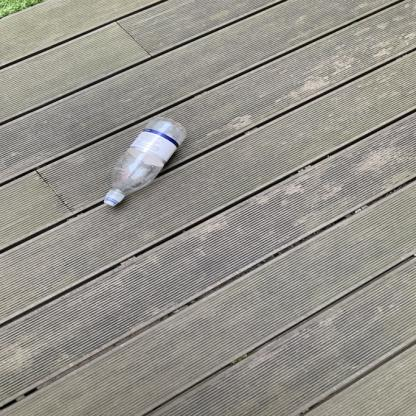trash: (103, 117, 190, 208)
